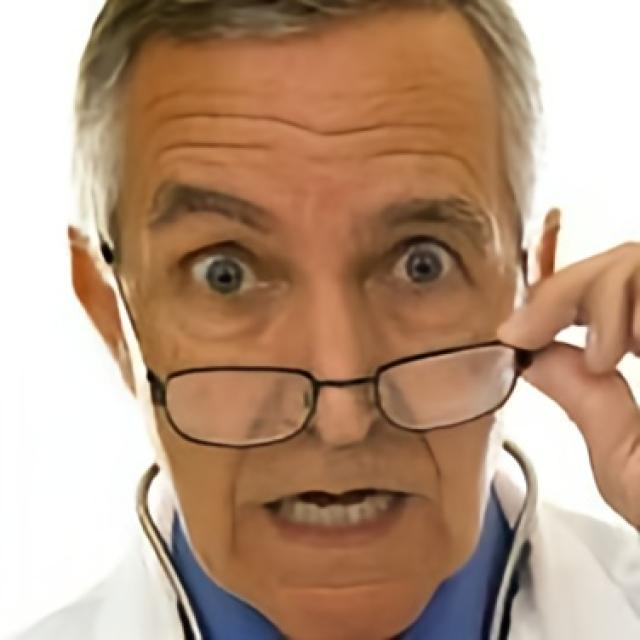fear: (112, 0, 524, 640)
